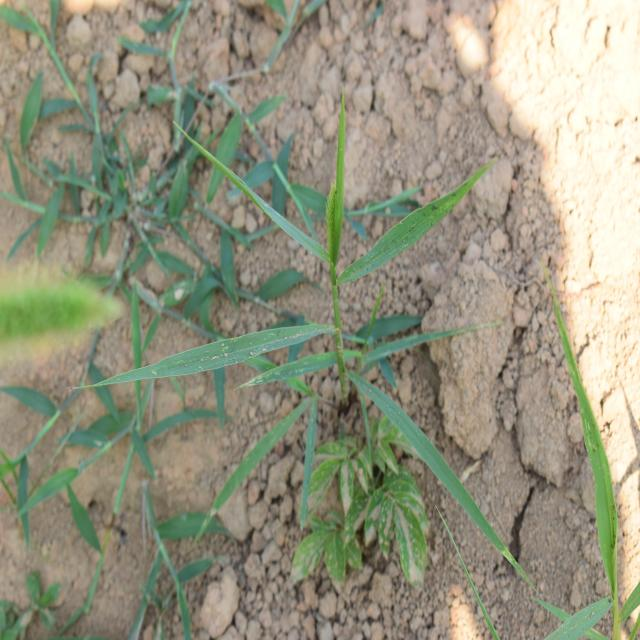green_foxtail: (158, 158, 452, 488)
